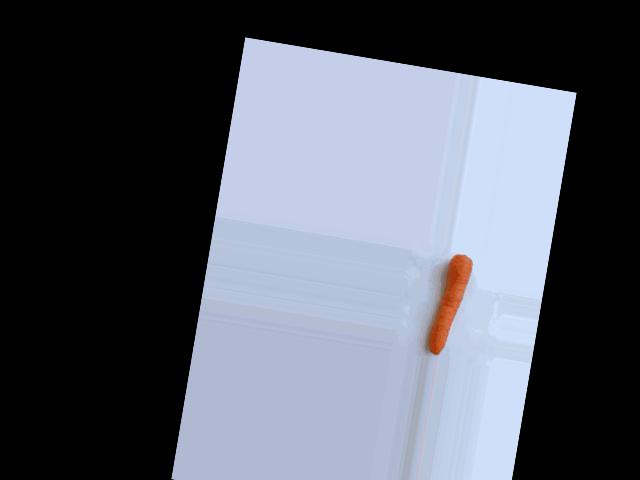carrot: (425, 251, 474, 357)
